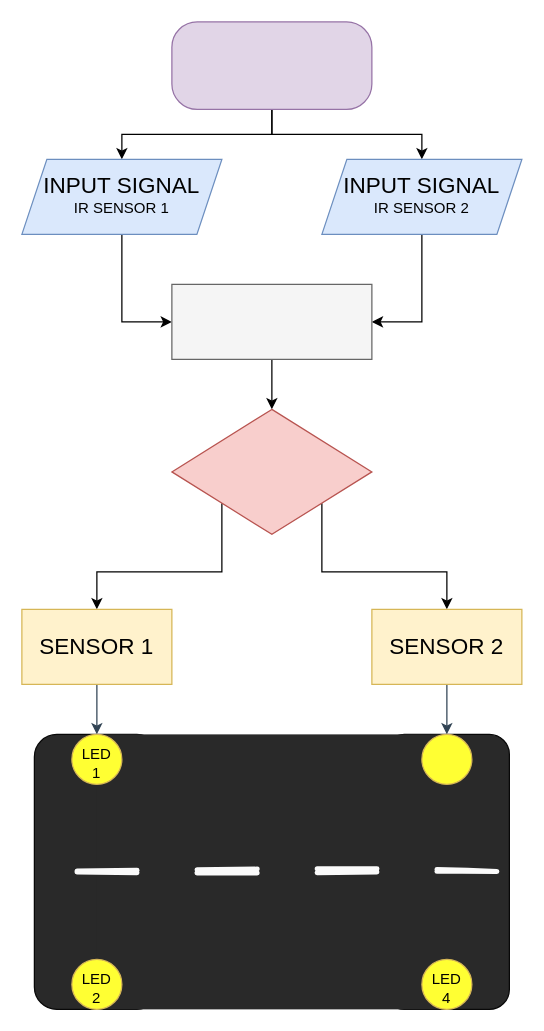
This 544x1031 diagram has some shape labels left out. The centre of each missing label's shape, as x and y in pixels:
CONTROL UNIT Arduino UNO: [271,321]
DECISION BLOCK: [271,471]
DETECTION VEHICLE: [271,65]
LED 3: [446,758]
